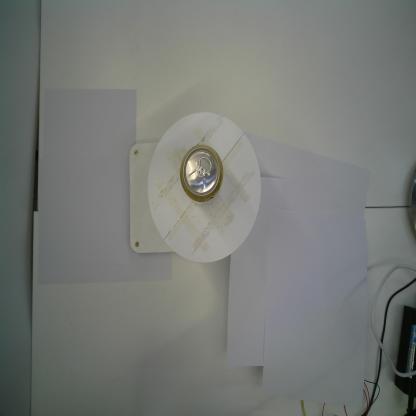Alcohol: (179, 144, 224, 203)
